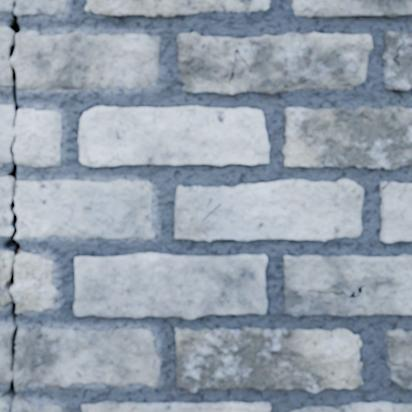brick: (74, 253, 266, 318), (176, 327, 362, 392), (177, 33, 371, 93), (175, 179, 362, 240), (79, 107, 268, 165), (283, 107, 411, 169), (284, 255, 411, 315), (86, 0, 269, 16), (293, 0, 411, 17), (381, 183, 411, 241), (82, 402, 270, 411), (383, 32, 411, 90), (386, 329, 411, 388), (293, 402, 411, 411)
broken_brick: (15, 325, 161, 388), (12, 30, 161, 90), (16, 179, 155, 240), (11, 252, 57, 313), (14, 108, 61, 167), (0, 104, 14, 163), (16, 0, 66, 16), (0, 325, 12, 384), (0, 26, 11, 87), (0, 176, 11, 236), (12, 400, 62, 411), (0, 250, 9, 308), (0, 0, 13, 12), (0, 397, 9, 411)
crack: (2, 0, 25, 411), (392, 32, 405, 73), (396, 183, 407, 218), (381, 182, 389, 189), (130, 405, 135, 411), (129, 34, 142, 36)
